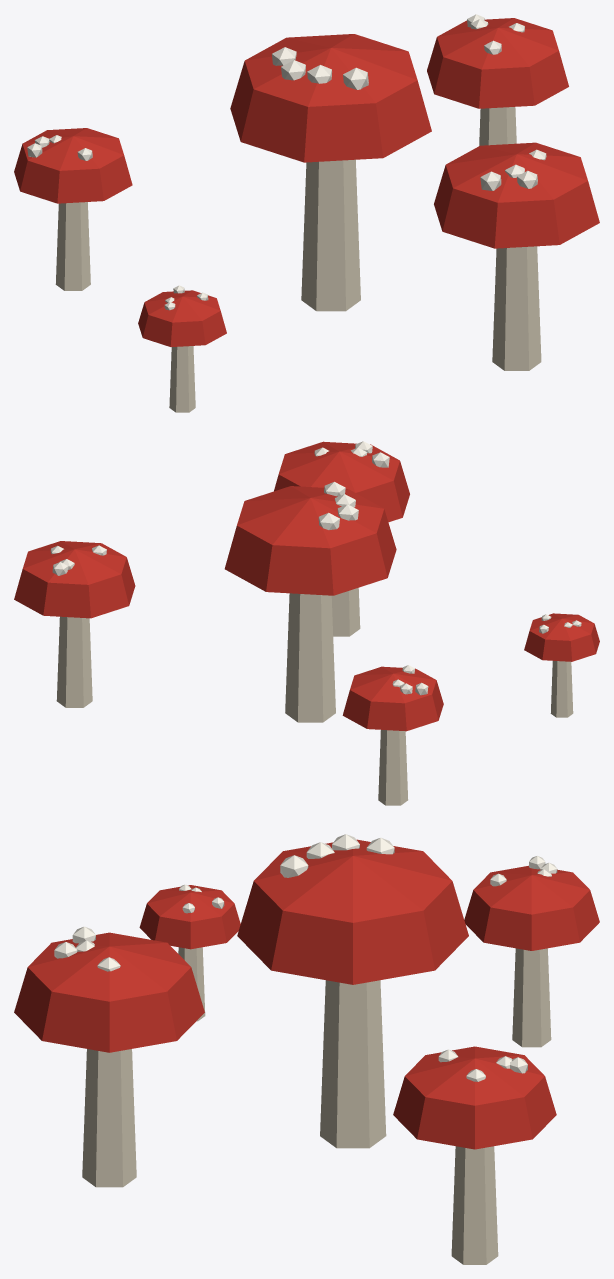
The model's file is forest_mushrooms.glb.
The picture shows the model from 3 angles, top to bottom: view 1: azimuth 30°, elevation 25°; view 2: azimuth 150°, elevation 25°; view 3: azimuth 270°, elevation 25°; orthographic projection. The views are drawn at different scales.
Visible parts, largest first — view 1: forest_mushrooms; view 2: forest_mushrooms; view 3: forest_mushrooms.
Boxes of the visible parts, x1,y1,x2,y2 form: forest_mushrooms: (14,14,599,412); forest_mushrooms: (14,441,599,805); forest_mushrooms: (14,834,599,1264).
Bounding box in the file's own units: 0.8638 × 0.3808 × 0.7216.
